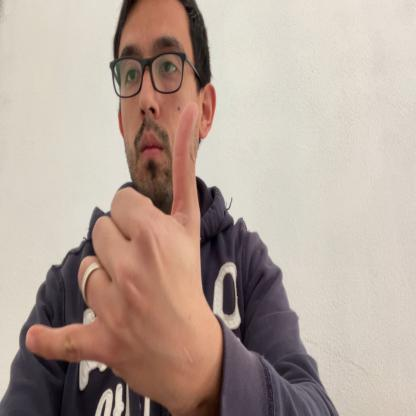Y: (24, 101, 208, 391)
